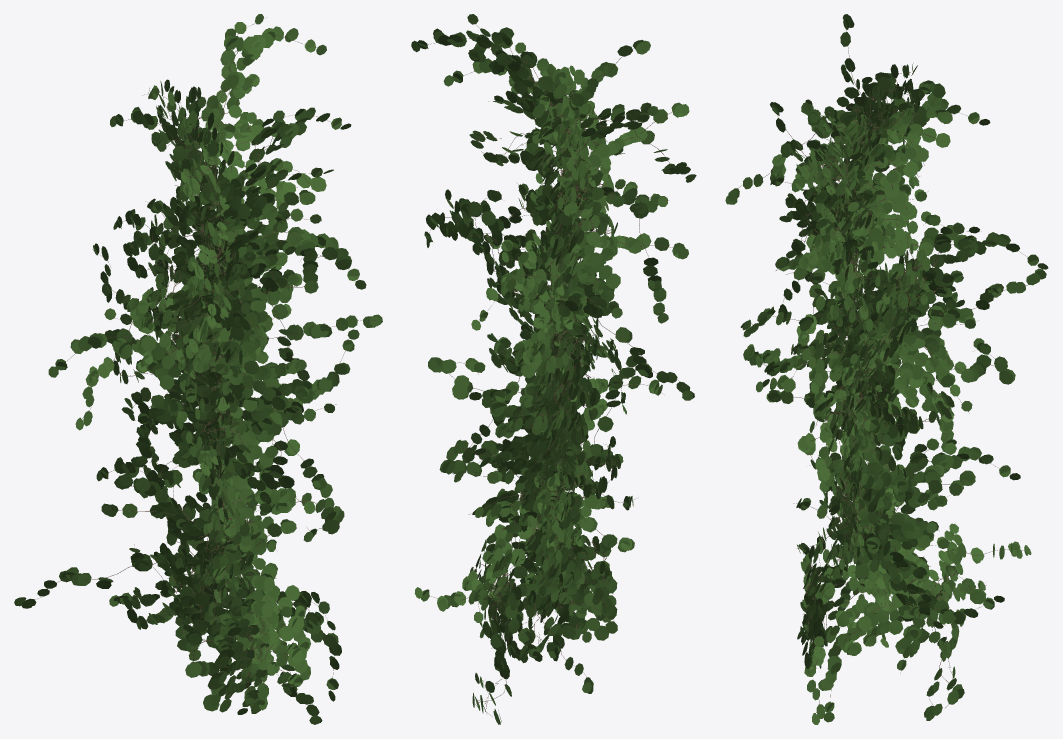
Rendered from ivy_pelle.fbx.
3 renders of one model, left to right at view 1: azimuth 30°, elevation 25°; view 2: azimuth 150°, elevation 25°; view 3: azimuth 270°, elevation 25°, orthographic. The views are drawn at different scales.
Parts seen in each view (by area): view 1: Cube; view 2: Cube; view 3: Cube.
Part boxes in pixels (x1,y1,x2,y2): Cube: (14,14,382,724); Cube: (411,14,696,724); Cube: (725,14,1048,724).
Bounding box in the file's own units: 139 × 330 × 144.
